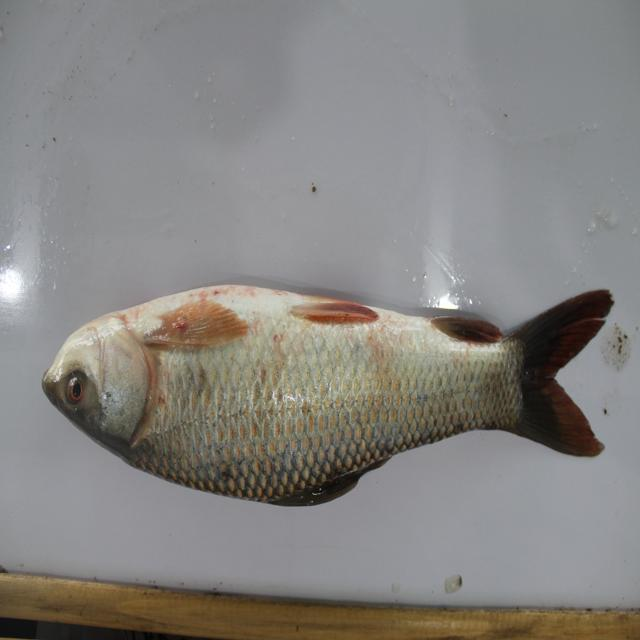Rohu: (33, 287, 618, 510)
